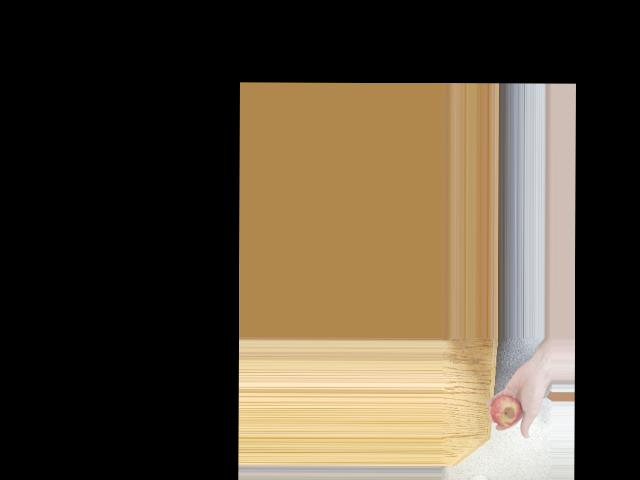apple: (491, 391, 525, 428)
